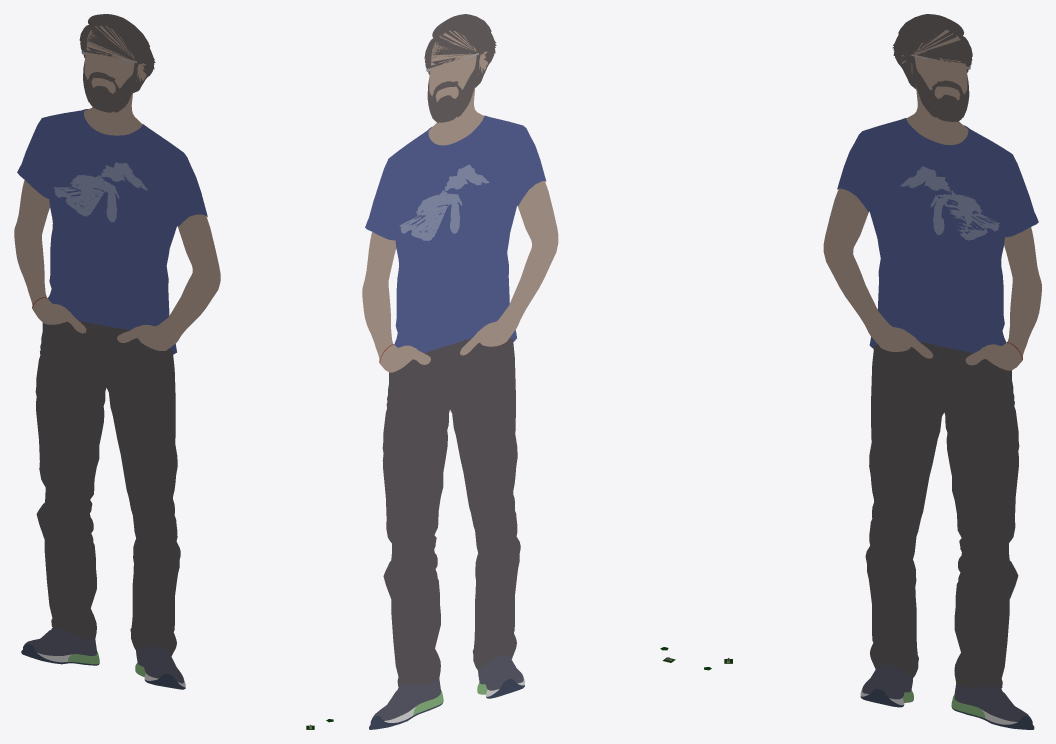
Rendered from lmv3.obj.
3 renders of one model, left to right at view 1: azimuth 90°, elevation 25°; view 2: azimuth 150°, elevation 25°; view 3: azimuth 270°, elevation 25°, orthographic. The views are drawn at different scales.
Parts seen in each view (by area): view 1: Mesh1 Marc1 Model; view 2: Mesh1 Marc1 Model; view 3: Mesh1 Marc1 Model.
Boxes of the visible parts, x1,y1,x2,y2 form: Mesh1 Marc1 Model: (14, 14, 220, 689); Mesh1 Marc1 Model: (362, 14, 558, 729); Mesh1 Marc1 Model: (823, 14, 1041, 729).
Size of the model in its own units: 16.89 by 71.74 by 31.36.
